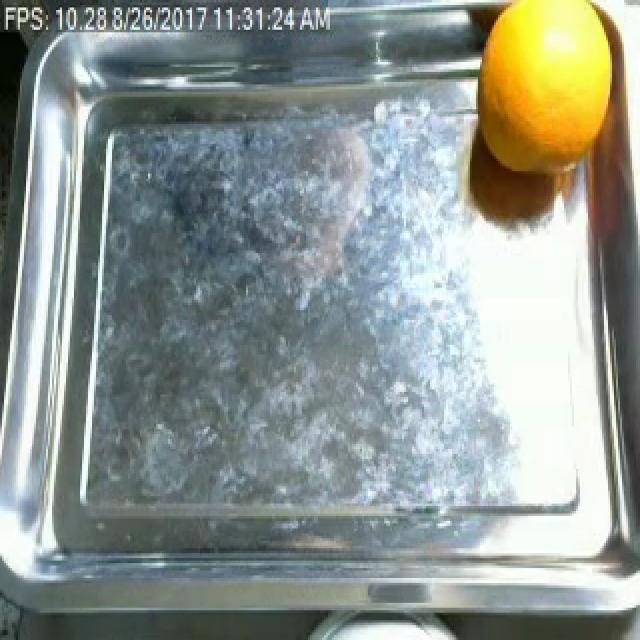Fruit: (472, 0, 622, 184)
